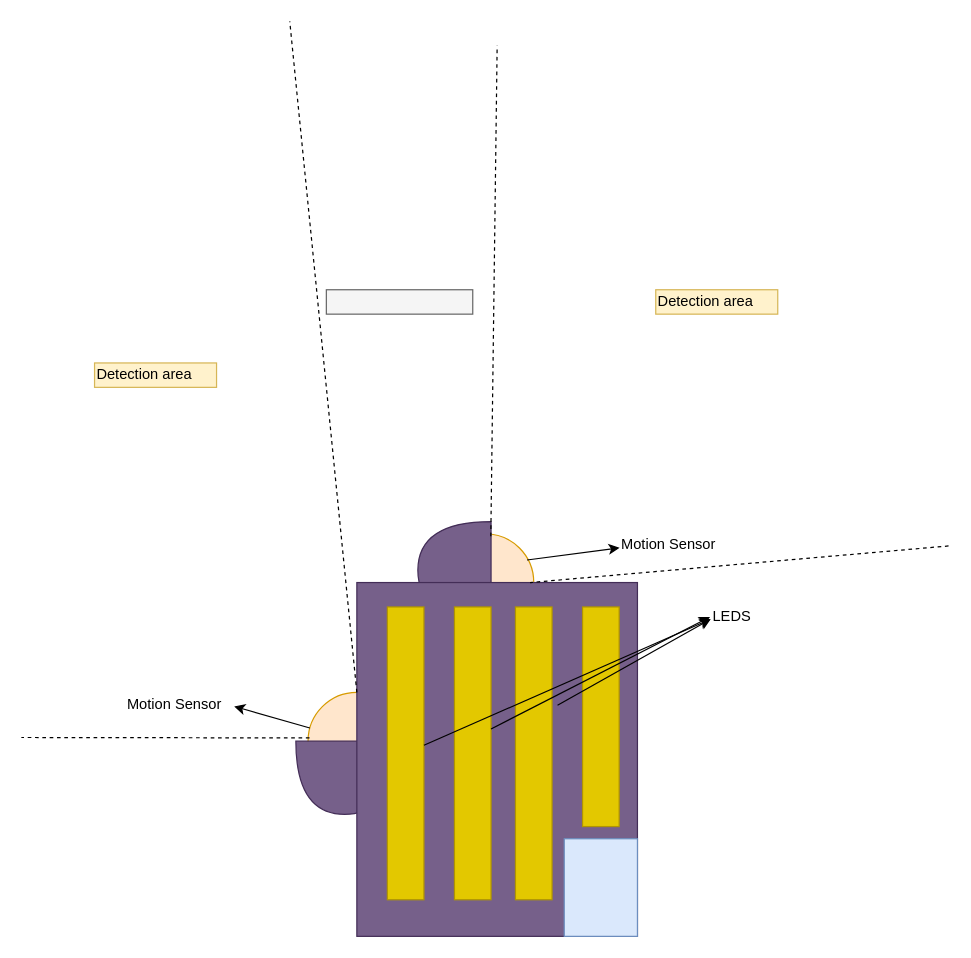
This 971x958 diagram has some shape labels left out. The shapes that lost their labels are listed below. From the top down, each one's box as (x1, y1, x2, y2) in pixels, then its label:
(325, 289, 473, 314): No detection area
(563, 838, 637, 936): Light Sensor
